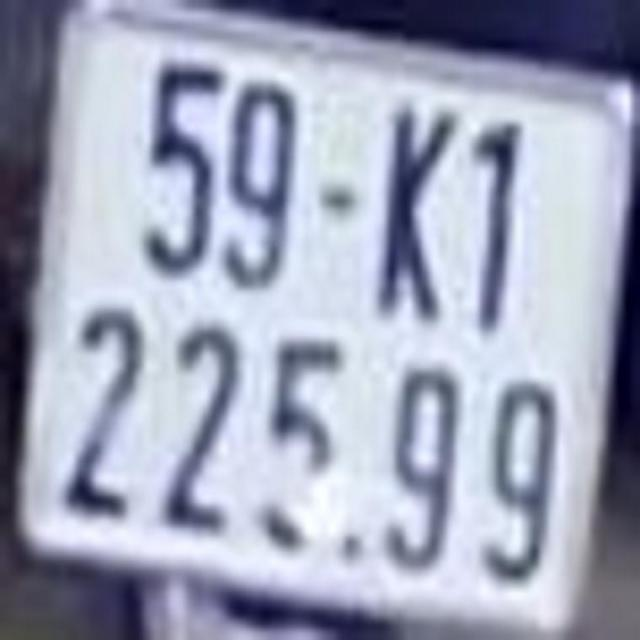1: (474, 122, 516, 333)
2: (161, 324, 231, 530), (74, 303, 139, 512)
5: (272, 326, 339, 558), (149, 50, 211, 266)
9: (385, 367, 458, 572), (496, 369, 554, 578), (226, 74, 282, 289)
K: (385, 104, 449, 324)
